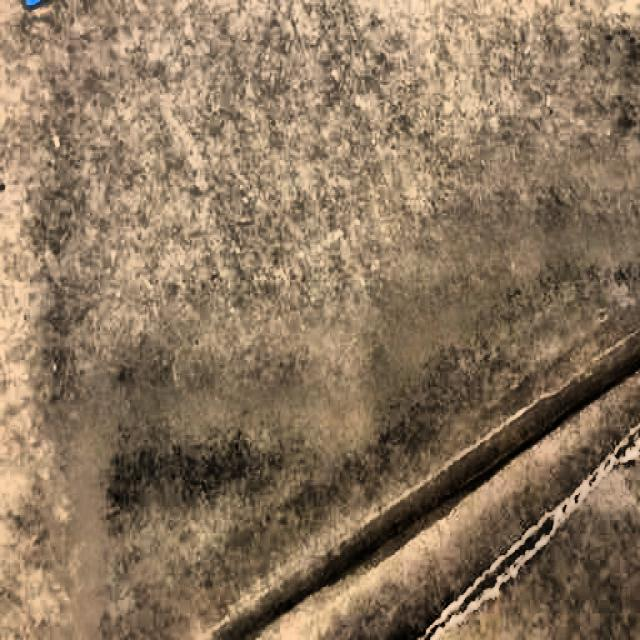cardboard: (42, 49, 640, 627)
